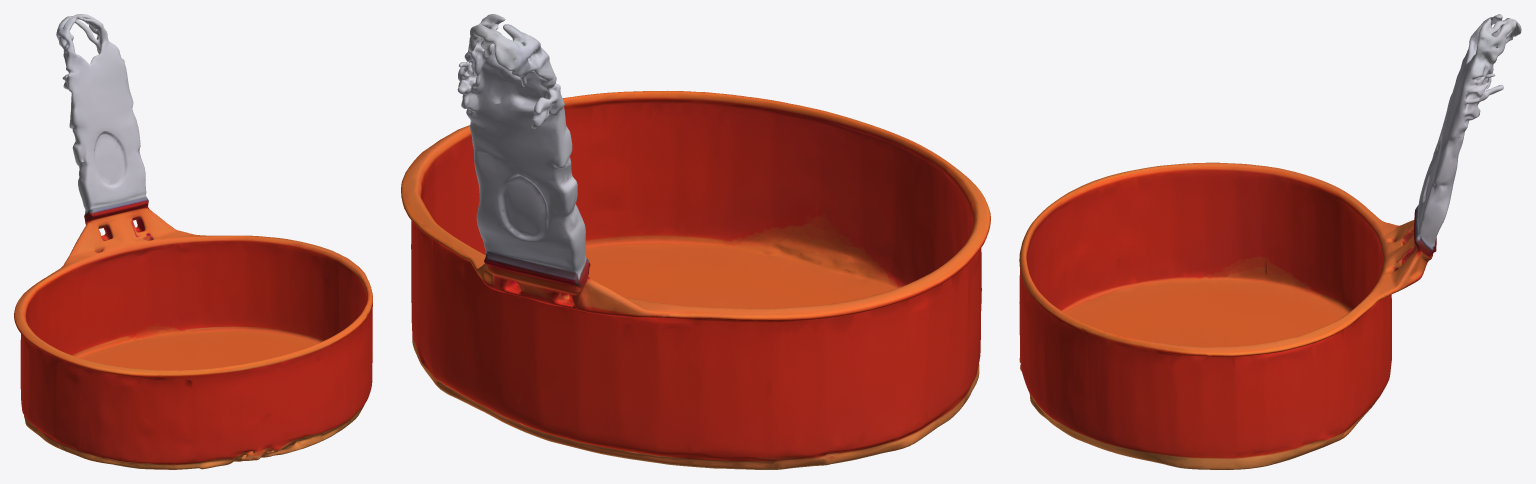
File: image_0001_segmented.glb
The picture shows the model from 3 angles, left to right: view 1: azimuth 30°, elevation 25°; view 2: azimuth 150°, elevation 25°; view 3: azimuth 270°, elevation 25°; orthographic projection. The views are drawn at different scales.
Visible parts, largest first — view 1: texture_pbr_v128.001; view 2: texture_pbr_v128.001; view 3: texture_pbr_v128.001.
Boxes of the visible parts, x1=… form: texture_pbr_v128.001: x1=14, y1=14, x2=372, y2=469; texture_pbr_v128.001: x1=401, y1=14, x2=990, y2=469; texture_pbr_v128.001: x1=1019, y1=14, x2=1521, y2=469.
Bounding box in the file's own units: 0.8544 × 0.756 × 0.9486.
1 material, 1 textured.
